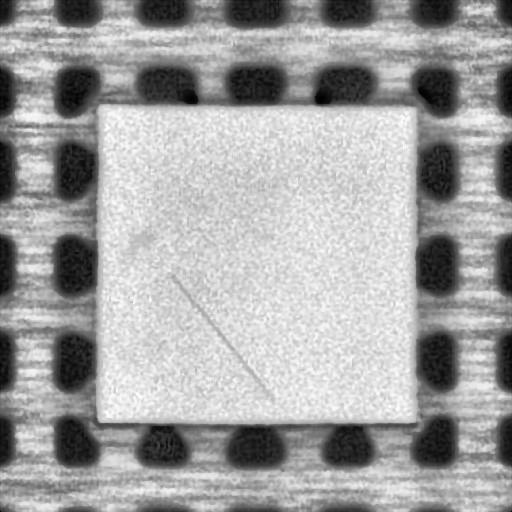DIE_CRACK: (168, 273, 274, 400)
